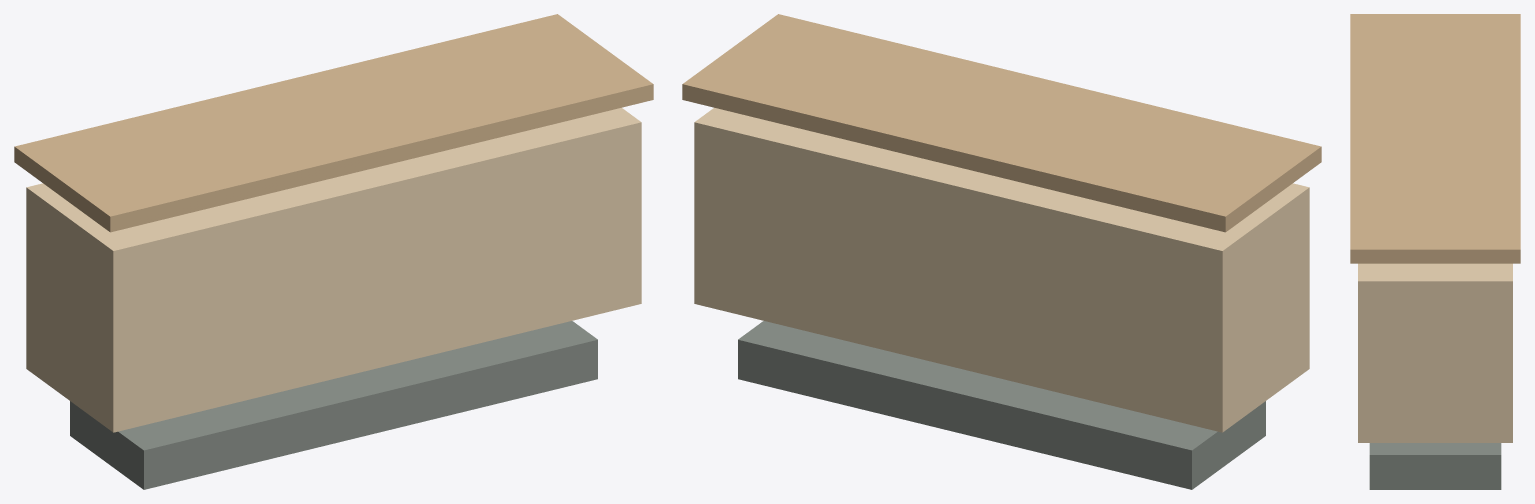
Rendered from low_cabinet.glb.
The picture shows the model from 3 angles, left to right: view 1: azimuth 30°, elevation 25°; view 2: azimuth 150°, elevation 25°; view 3: azimuth 270°, elevation 25°; orthographic projection. The views are drawn at different scales.
Visible parts, largest first — view 1: low_cabinet_oak_light_0, low_cabinet_oak_1, low_cabinet_dark_2; view 2: low_cabinet_oak_light_0, low_cabinet_oak_1, low_cabinet_dark_2; view 3: low_cabinet_oak_1, low_cabinet_oak_light_0, low_cabinet_dark_2.
Boxes of the visible parts, x1,y1,x2,y2 form: low_cabinet_oak_light_0: [26, 107, 641, 432]; low_cabinet_oak_1: [14, 14, 653, 232]; low_cabinet_dark_2: [70, 321, 597, 489]; low_cabinet_oak_light_0: [694, 107, 1309, 432]; low_cabinet_oak_1: [682, 14, 1321, 232]; low_cabinet_dark_2: [738, 321, 1265, 489]; low_cabinet_oak_1: [1350, 14, 1520, 263]; low_cabinet_oak_light_0: [1358, 263, 1512, 442]; low_cabinet_dark_2: [1369, 443, 1501, 489].
Size of the model in its own units: 1.44 by 0.74 by 0.44.
